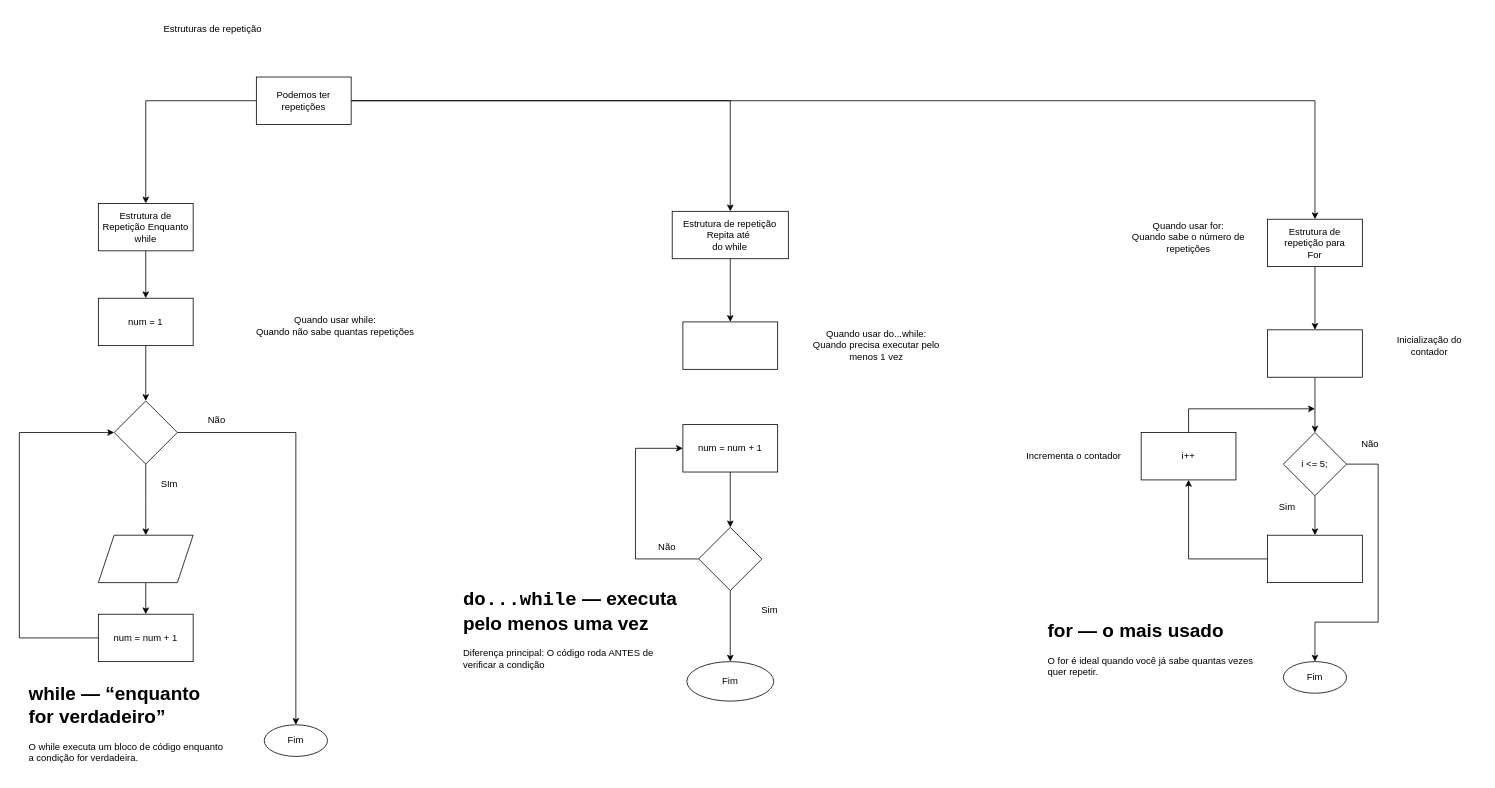
The diagram is 1495 pixels wide and 788 high, and some of its shapes have lost their labels. The centre of each missing label's shape, as x and y in pixels:
"Escrveva num" belongs at (145,558).
"i = 1" belongs at (1314,353).
"Instruções" belongs at (1314,558).
"num <= 10" belongs at (145,432).
"num = 0" belongs at (730,345).
"Num > 10" belongs at (730,559).
